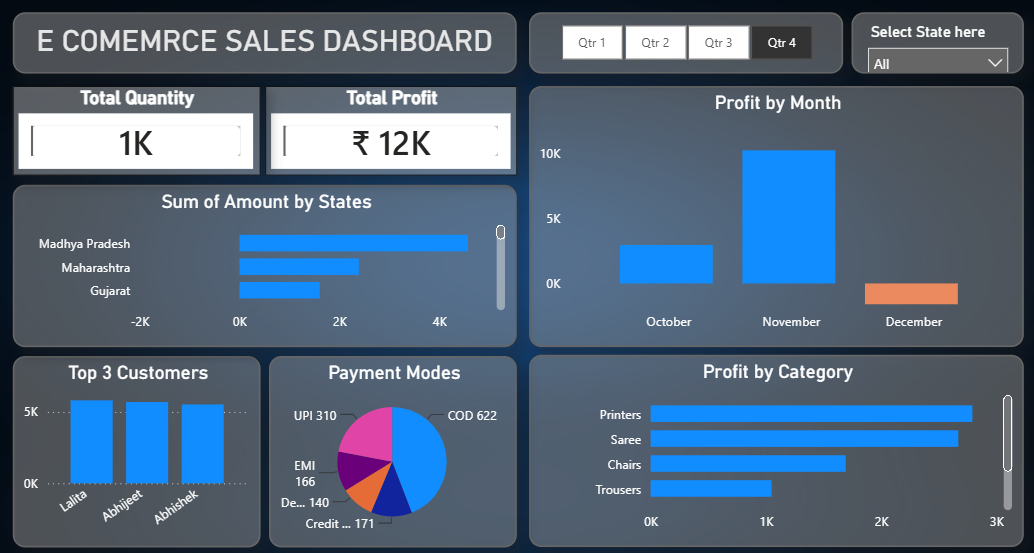

What the dashboard file says about the page in this screenshot:
{"tool":"powerbi","page":{"name":"Page 1","canvas":[1280,720],"ordinal":0},"visuals":[{"type":"columnChart","title":"Profit by Month","fields":{"Category":["Orders.Order Date.Variation.Date Hierarchy.Month"],"Y":["Sum(Details.Profit)"]},"box":[651.1,173.3,477.8,252.2],"z":0},{"type":"textbox","box":[153.3,102.2,486.7,58.9],"z":1000},{"type":"clusteredBarChart","title":"Profit by Category","fields":{"Y":["Sum(Details.Profit)"],"Category":["Details.Sub-Category"]},"box":[651.1,433.3,477.8,185.6],"z":2000},{"type":"columnChart","title":"Top 3 Customers","fields":{"Category":["Orders.CustomerName"],"Y":["Sum(Details.Amount)"]},"box":[153.3,434.4,238.9,184.4],"z":3000},{"type":"clusteredBarChart","title":"Sum of Amount by States","fields":{"Y":["Sum(Details.Profit)"],"Category":["Orders.State"]},"box":[153.3,268.9,486.7,156.7],"z":4000},{"type":"pieChart","title":"Payment Modes","fields":{"Y":["Sum(Details.Quantity)"],"Series":["Details.PaymentMode"]},"box":[401.1,434.4,238.9,184.4],"z":5000},{"type":"slicer","fields":{"Values":["Orders.Order Date.Variation.Date Hierarchy.Quarter"]},"box":[651.1,102.2,303.3,58.9],"z":6000},{"type":"cardVisual","title":"Total Profit","fields":{"Data":["Sum(Details.Profit)"]},"box":[396.7,173.3,243.3,86.7],"z":7000},{"type":"cardVisual","title":"Total Quantity","fields":{"Data":["Sum(Details.Quantity)"]},"box":[153.3,173.3,238.9,86.7],"z":8000},{"type":"slicer","fields":{"Values":["Orders.State"]},"box":[962.2,102.2,166.7,58.9],"z":9000}]}

Visuals, with their boxes on the page's 1280x720 design canvas (x1, y1, x2, y2). These are canvas units, not pixel positions in the 1034x553 screenshot, which may show the page scaled, cropped or inside an application window:
"Profit by Month" columnChart: <box>651,173,1129,426</box>
textbox: <box>153,102,640,161</box>
"Profit by Category" clusteredBarChart: <box>651,433,1129,619</box>
"Top 3 Customers" columnChart: <box>153,434,392,619</box>
"Sum of Amount by States" clusteredBarChart: <box>153,269,640,426</box>
"Payment Modes" pieChart: <box>401,434,640,619</box>
slicer - Orders.Order Date.Variation.Date Hierarchy.Quarter: <box>651,102,954,161</box>
"Total Profit" cardVisual: <box>397,173,640,260</box>
"Total Quantity" cardVisual: <box>153,173,392,260</box>
slicer - Orders.State: <box>962,102,1129,161</box>
